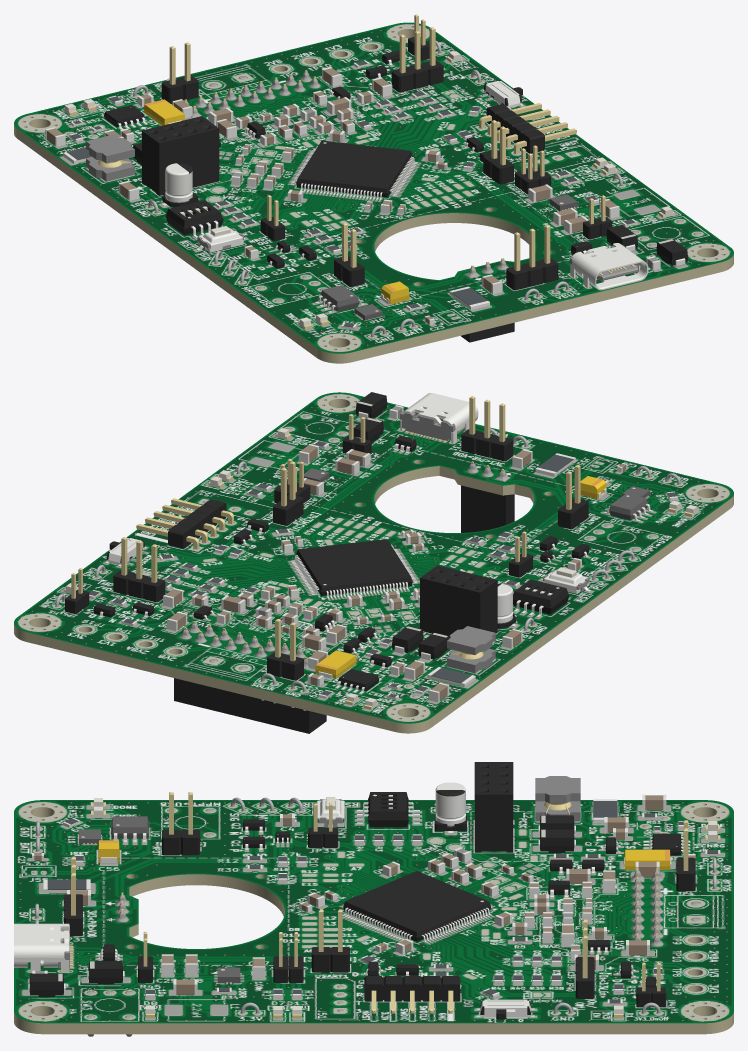
Rendered from armi-pcb.glb.
The picture shows the model from 3 angles, top to bottom: view 1: azimuth 30°, elevation 25°; view 2: azimuth 150°, elevation 25°; view 3: azimuth 270°, elevation 25°; orthographic projection. The views are drawn at different scales.
Parts seen in each view (by area): view 1: PCB_260513_pcb2blender, LQFP-100_14x14mm_P0.5mm, PinSocket_2x04_P2.54mm_Vertical, PinHeader_1x05_P2.54mm_Horizontal, USB_C_Receptacle_GCT_USB4105-xx-A_16P_TopMnt_Horizontal, PinHeader_1x03_P2.54mm_Vertical.001, PinHeader_1x03_P2.54mm_Vertical, L_Bourns_SRN6045TA, SW_DIP_SPSTx04_Slide_KingTek_DSHP04TS_W7.62mm_P1.27mm, PinHeader_1x02_P2.54mm_Vertical.002, CP_Elec_4x5.4, PinHeader_1x02_P2.54mm_Vertical (+11 smaller); view 2: PCB_260513_pcb2blender, LQFP-100_14x14mm_P0.5mm, PinSocket_2x04_P2.54mm_Vertical, PinSocket_2x09_P2.54mm_Vertical, PinHeader_1x05_P2.54mm_Horizontal, USB_C_Receptacle_GCT_USB4105-xx-A_16P_TopMnt_Horizontal, PinSocket_1x03_P2.54mm_Vertical, PinHeader_1x03_P2.54mm_Vertical.001, PinHeader_1x03_P2.54mm_Vertical, L_Bourns_SRN6045TA, SW_DIP_SPSTx04_Slide_KingTek_DSHP04TS_W7.62mm_P1.27mm, PinHeader_1x02_P2.54mm_Vertical.002 (+16 smaller); view 3: PCB_260513_pcb2blender, LQFP-100_14x14mm_P0.5mm, PinSocket_2x04_P2.54mm_Vertical, PinHeader_1x05_P2.54mm_Horizontal, USB_C_Receptacle_GCT_USB4105-xx-A_16P_TopMnt_Horizontal, L_Bourns_SRN6045TA, SW_DIP_SPSTx04_Slide_KingTek_DSHP04TS_W7.62mm_P1.27mm, CP_Elec_4x5.4, PinHeader_1x02_P2.54mm_Vertical, PinHeader_1x02_P2.54mm_Vertical.001, PinHeader_1x03_P2.54mm_Vertical, SW_SPDT_PCM12 (+18 smaller).
Part boxes in pixels (left/top/right/bottom): PCB_260513_pcb2blender: left=14, top=22, right=733, bottom=363; LQFP-100_14x14mm_P0.5mm: left=291, top=140, right=417, bottom=200; PinSocket_2x04_P2.54mm_Vertical: left=142, top=116, right=219, bottom=195; PinHeader_1x05_P2.54mm_Horizontal: left=479, top=103, right=576, bottom=154; USB_C_Receptacle_GCT_USB4105-xx-A_16P_TopMnt_Horizontal: left=570, top=243, right=648, bottom=290; PinHeader_1x03_P2.54mm_Vertical.001: left=506, top=225, right=558, bottom=290; PinHeader_1x03_P2.54mm_Vertical: left=391, top=27, right=443, bottom=92; L_Bourns_SRN6045TA: left=86, top=134, right=134, bottom=181; SW_DIP_SPSTx04_Slide_KingTek_DSHP04TS_W7.62mm_P1.27mm: left=165, top=200, right=223, bottom=238; PinHeader_1x02_P2.54mm_Vertical.002: left=161, top=42, right=198, bottom=103; CP_Elec_4x5.4: left=161, top=163, right=198, bottom=207; PinHeader_1x02_P2.54mm_Vertical: left=483, top=120, right=513, bottom=184; PCB_260513_pcb2blender: left=14, top=392, right=733, bottom=733; LQFP-100_14x14mm_P0.5mm: left=291, top=539, right=417, bottom=598; PinSocket_2x04_P2.54mm_Vertical: left=420, top=565, right=497, bottom=637; PinSocket_2x09_P2.54mm_Vertical: left=174, top=621, right=326, bottom=733; PinHeader_1x05_P2.54mm_Horizontal: left=136, top=498, right=233, bottom=549; USB_C_Receptacle_GCT_USB4105-xx-A_16P_TopMnt_Horizontal: left=400, top=393, right=478, bottom=443; PinSocket_1x03_P2.54mm_Vertical: left=461, top=461, right=514, bottom=532; PinHeader_1x03_P2.54mm_Vertical.001: left=461, top=396, right=513, bottom=461; PinHeader_1x03_P2.54mm_Vertical: left=113, top=537, right=165, bottom=602; L_Bourns_SRN6045TA: left=447, top=626, right=495, bottom=673; SW_DIP_SPSTx04_Slide_KingTek_DSHP04TS_W7.62mm_P1.27mm: left=513, top=579, right=569, bottom=617; PinHeader_1x02_P2.54mm_Vertical.002: left=267, top=619, right=303, bottom=680; PCB_260513_pcb2blender: left=14, top=800, right=733, bottom=1034; LQFP-100_14x14mm_P0.5mm: left=342, top=871, right=492, bottom=942; PinSocket_2x04_P2.54mm_Vertical: left=474, top=762, right=513, bottom=852; PinHeader_1x05_P2.54mm_Horizontal: left=364, top=976, right=460, bottom=1013; USB_C_Receptacle_GCT_USB4105-xx-A_16P_TopMnt_Horizontal: left=14, top=923, right=72, bottom=972; L_Bourns_SRN6045TA: left=535, top=776, right=580, bottom=821; SW_DIP_SPSTx04_Slide_KingTek_DSHP04TS_W7.62mm_P1.27mm: left=357, top=792, right=419, bottom=827; CP_Elec_4x5.4: left=434, top=782, right=466, bottom=833; PinHeader_1x02_P2.54mm_Vertical: left=311, top=909, right=349, bottom=972; PinHeader_1x02_P2.54mm_Vertical.001: left=162, top=792, right=200, bottom=855; PinHeader_1x03_P2.54mm_Vertical: left=575, top=919, right=594, bottom=998; SW_SPDT_PCM12: left=476, top=999, right=534, bottom=1019.
Size of the model in its own units: 0.0699 by 0.0186 by 0.0952.
29 materials, 2 textured.
